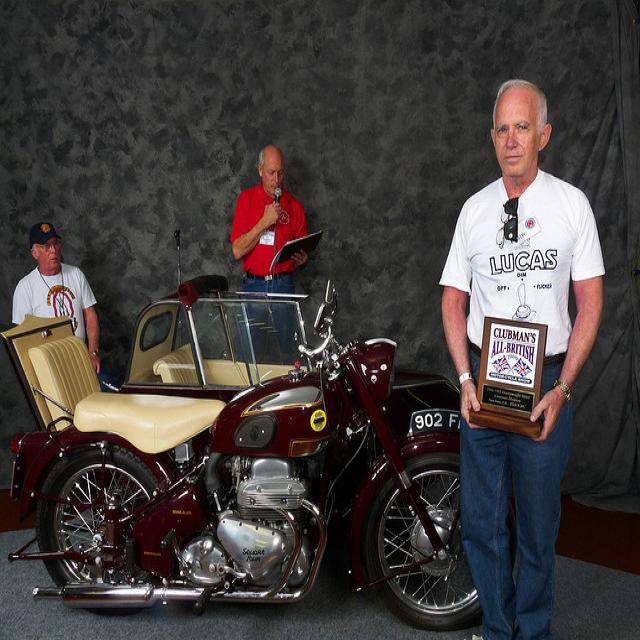motor: (5, 276, 483, 631)
